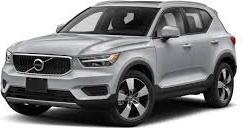SUV: (1, 2, 237, 127)
